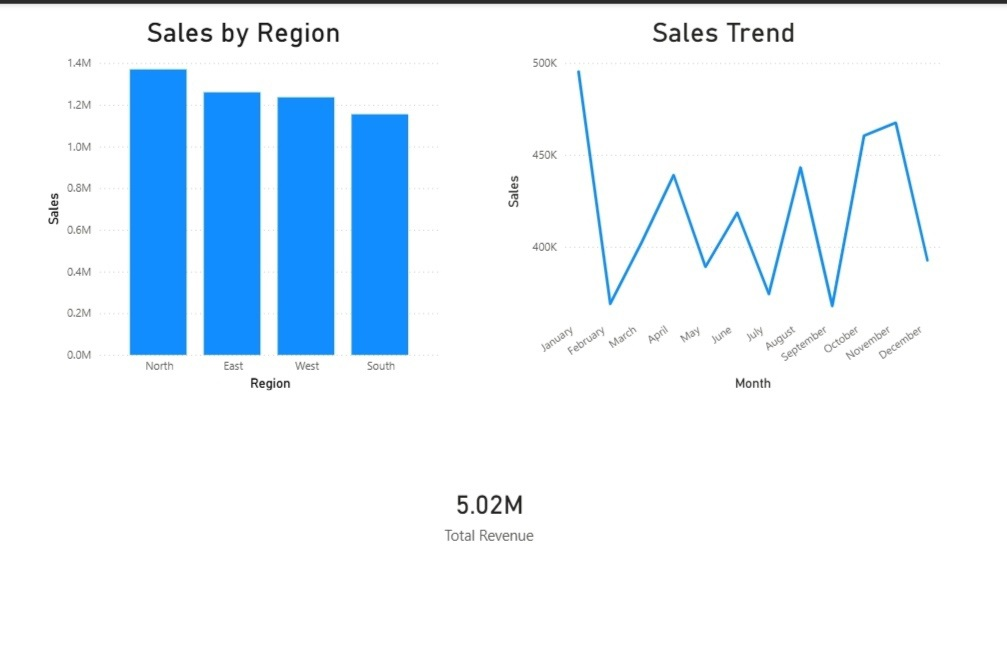

This screenshot's page, from the dashboard's own definition file:
{"tool":"powerbi","page":{"name":"Page 1","canvas":[1280,720],"ordinal":0},"visuals":[{"type":"clusteredColumnChart","title":"Sales by Region","fields":{"Category":["sales_data (3).Region"],"Y":["Sum(sales_data (3).Sales_Amount)"]},"box":[42.9,14.3,441.4,415.7],"z":0},{"type":"lineChart","title":"Sales Trend","fields":{"Category":["sales_data (3).Sale_Date.Variation.Date Hierarchy.Month"],"Y":["Sum(sales_data (3).Sales_Amount)"]},"box":[555.7,14.3,485.7,415.7],"z":1000},{"type":"card","title":"Total Revenue","fields":{"Values":["Sum(sales_data (3).Sales_Amount)"]},"box":[352.9,420,377.1,277.1],"z":2000}]}

Visuals, with their boxes on the page's 1280x720 design canvas (x1, y1, x2, y2). These are canvas units, not pixel positions in the 1007x653 screenshot, which may show the page scaled, cropped or inside an application window:
"Sales by Region" clusteredColumnChart: (left=43, top=14, right=484, bottom=430)
"Sales Trend" lineChart: (left=556, top=14, right=1041, bottom=430)
"Total Revenue" card: (left=353, top=420, right=730, bottom=697)
